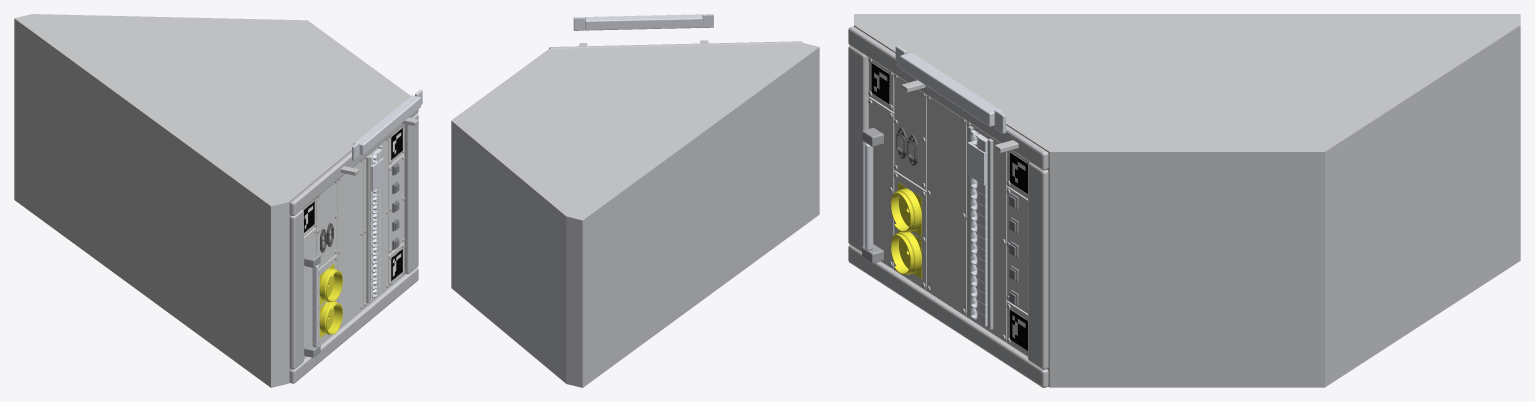
File: panel_body.glb
3 renders of one model, left to right at view 1: azimuth 30°, elevation 25°; view 2: azimuth 150°, elevation 25°; view 3: azimuth 270°, elevation 25°, orthographic. The views are drawn at different scales.
Visible parts, largest first — view 1: panel_body.001, subplate_4_r3.001, frame_bottom.001, frame_top.001, frame_right.001, subplate_3_r2.001, frame_left.001, subplate_5_r4.001, side_rail.001, subplate_1_r1.001, subplate_8_r5.001, disconnect_0_bezel.001 (+5 smaller); view 2: panel_body.001, side_rail.001, frame_left.001; view 3: panel_body.001, subplate_4_r3.001, frame_right.001, frame_top.001, frame_bottom.001, subplate_8_r5.001, subplate_3_r2.001, frame_left.001, subplate_5_r4.001, side_rail.001, subplate_1_r1.001, din_escutcheon_top.001 (+6 smaller).
Part boxes in pixels (left/top/right/bottom): panel_body.001: left=14, top=14, right=410, bottom=387; subplate_4_r3.001: left=337, top=161, right=362, bottom=326; frame_bottom.001: left=289, top=209, right=303, bottom=369; frame_top.001: left=404, top=113, right=418, bottom=274; frame_right.001: left=289, top=267, right=418, bottom=383; subplate_3_r2.001: left=363, top=140, right=388, bottom=308; frame_left.001: left=289, top=109, right=418, bottom=215; subplate_5_r4.001: left=315, top=182, right=337, bottom=267; side_rail.001: left=353, top=95, right=420, bottom=154; subplate_1_r1.001: left=388, top=154, right=404, bottom=254; subplate_8_r5.001: left=304, top=227, right=316, bottom=357; disconnect_0_bezel.001: left=319, top=263, right=342, bottom=305; panel_body.001: left=451, top=43, right=819, bottom=387; side_rail.001: left=585, top=14, right=702, bottom=30; frame_left.001: left=549, top=41, right=802, bottom=48; panel_body.001: left=854, top=14, right=1520, bottom=387; subplate_4_r3.001: left=927, top=98, right=966, bottom=315; frame_right.001: left=848, top=245, right=1048, bottom=387; frame_top.001: left=1028, top=162, right=1048, bottom=369; frame_bottom.001: left=848, top=46, right=868, bottom=252; subplate_8_r5.001: left=868, top=97, right=894, bottom=268; subplate_3_r2.001: left=967, top=124, right=1007, bottom=341; frame_left.001: left=848, top=26, right=1048, bottom=170; subplate_5_r4.001: left=894, top=77, right=926, bottom=190; side_rail.001: left=900, top=52, right=1001, bottom=126; subplate_1_r1.001: left=1007, top=186, right=1027, bottom=313; din_escutcheon_top.001: left=987, top=138, right=993, bottom=329.
Bounding box in the file's own units: 0.495 × 0.4407 × 1.01.
12 materials, 3 textured.
